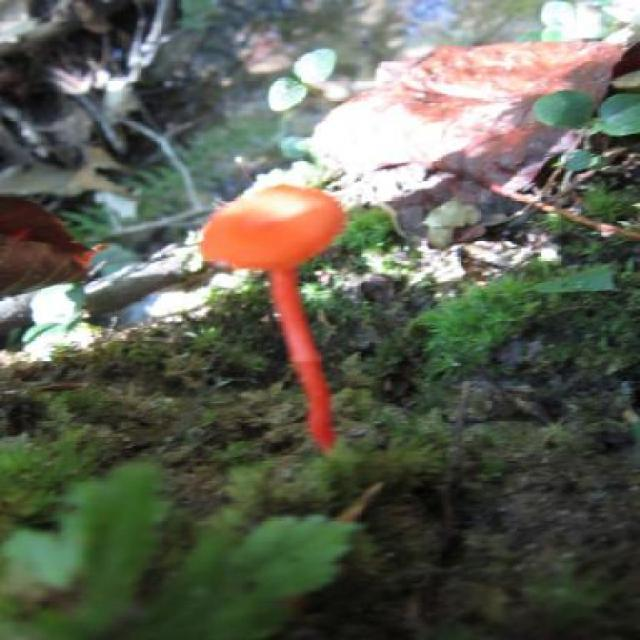Mushroom: (186, 150, 368, 478)
